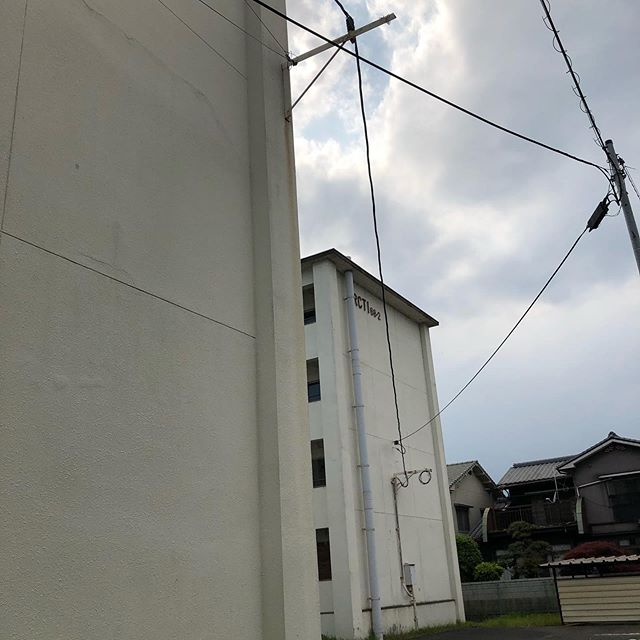building: (313, 260, 464, 640), (442, 440, 640, 610)
sky: (315, 1, 621, 423)
wall: (1, 1, 308, 621)
